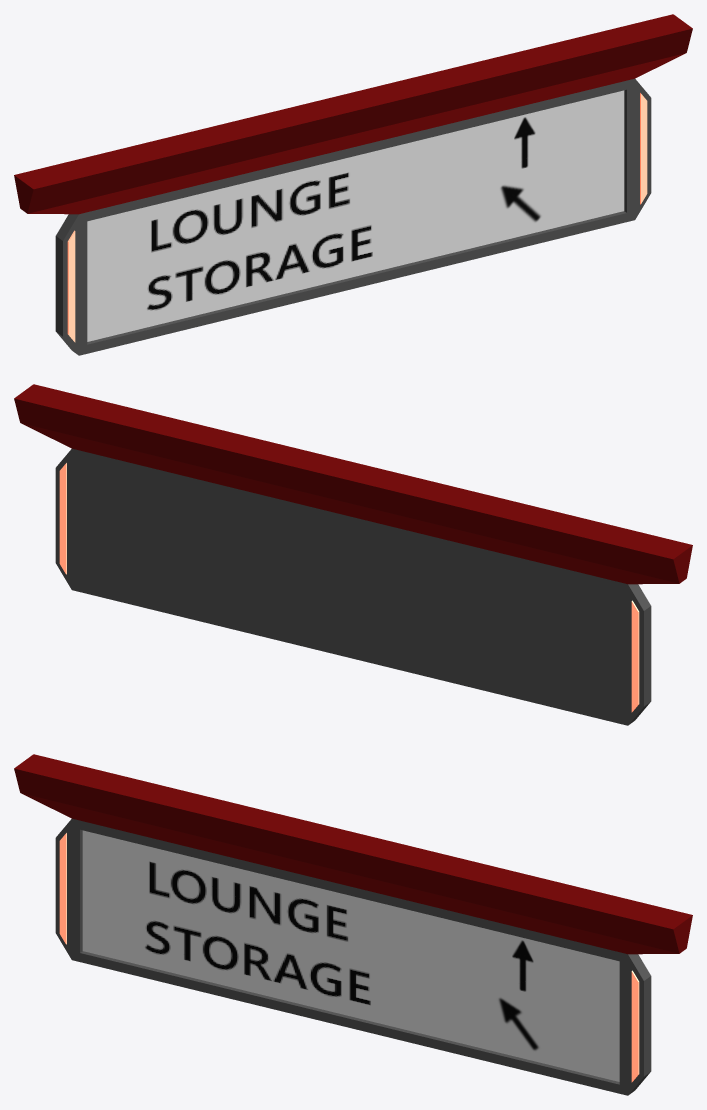
The model's file is Sign_storage-lounge.fbx.
3 views of the same model, one above another, from view 1: azimuth 30°, elevation 25°; view 2: azimuth 150°, elevation 25°; view 3: azimuth 330°, elevation 25° (orthographic).
Visible parts, largest first — view 1: Cube; view 2: Cube; view 3: Cube.
Part boxes in pixels (left/top/right/bottom): Cube: left=14, top=14, right=692, bottom=355; Cube: left=14, top=384, right=692, bottom=725; Cube: left=14, top=754, right=692, bottom=1095.
Bounding box in the file's own units: 237 × 63.07 × 12.23.
